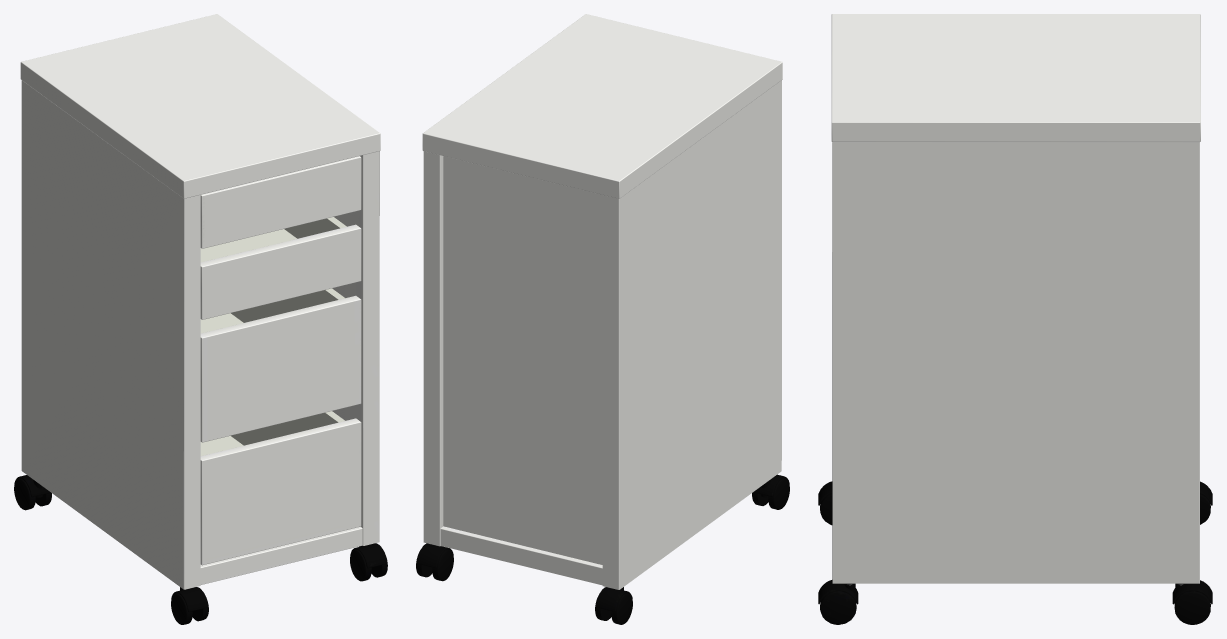
The model's file is micke_komoda_na_kokach_90213078.glb.
The picture shows the model from 3 angles, left to right: view 1: azimuth 30°, elevation 25°; view 2: azimuth 150°, elevation 25°; view 3: azimuth 270°, elevation 25°; orthographic projection. The views are drawn at different scales.
Visible parts, largest first — view 1: micke_komoda_na_kokach_90213078; view 2: micke_komoda_na_kokach_90213078; view 3: micke_komoda_na_kokach_90213078.
Part boxes in pixels (bbox=[...]): micke_komoda_na_kokach_90213078: bbox=[14, 14, 387, 624]; micke_komoda_na_kokach_90213078: bbox=[416, 14, 789, 624]; micke_komoda_na_kokach_90213078: bbox=[818, 14, 1212, 624].
Bounding box in the file's own units: 0.3618 × 0.75 × 0.5342.
1 material, 1 textured.
